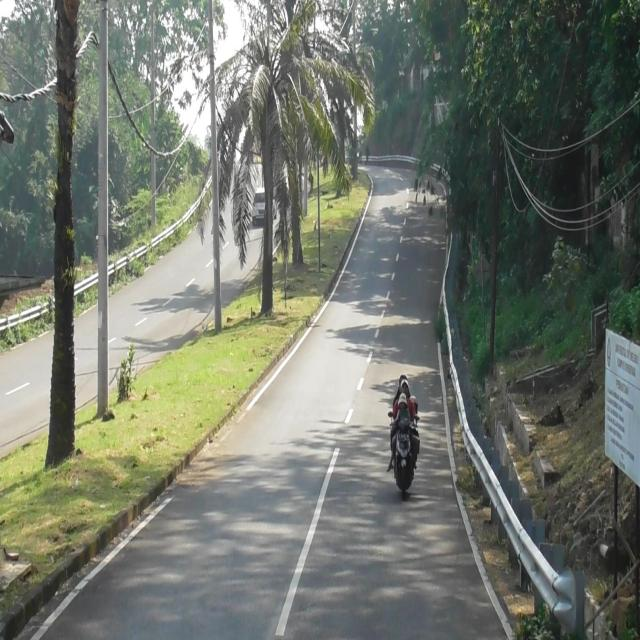motorcycle: (392, 418, 416, 498)
person: (392, 380, 418, 423), (393, 373, 410, 403), (396, 396, 411, 423), (408, 390, 420, 420)
rider_region: (390, 370, 420, 501)
